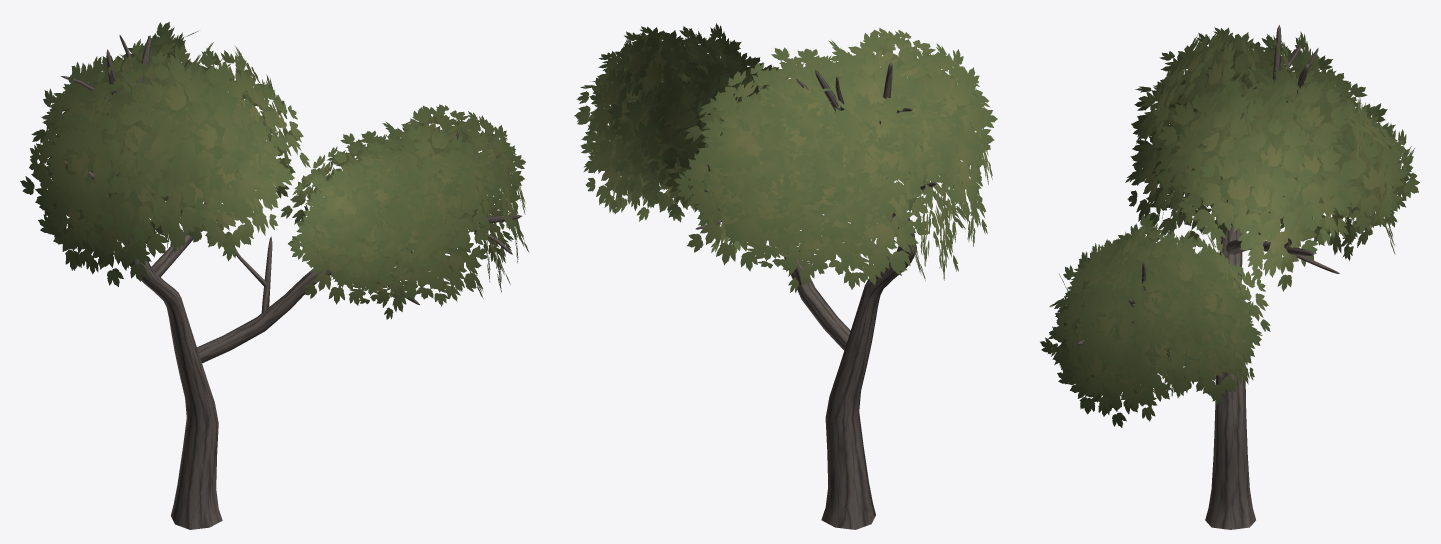
Rendered from MapleTree_1.gltf.
The picture shows the model from 3 angles, left to right: view 1: azimuth 30°, elevation 25°; view 2: azimuth 150°, elevation 25°; view 3: azimuth 270°, elevation 25°; orthographic projection. The views are drawn at different scales.
Parts seen in each view (by area): view 1: MapleTree_1; view 2: MapleTree_1; view 3: MapleTree_1.
Part boxes in pixels (x1,y1,x2,y2): MapleTree_1: (20, 21, 529, 529); MapleTree_1: (574, 23, 997, 529); MapleTree_1: (1040, 25, 1419, 529).
Bounding box in the file's own units: 6.23 × 6.64 × 4.9.
Materials: 2 (2 with a texture image).
